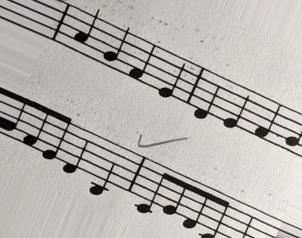A: (73, 5, 100, 65)
D: (192, 65, 221, 122), (62, 124, 89, 176)
E: (157, 47, 186, 103), (222, 80, 250, 136)
F: (129, 34, 157, 90), (254, 92, 281, 148)
G: (102, 20, 130, 79)
